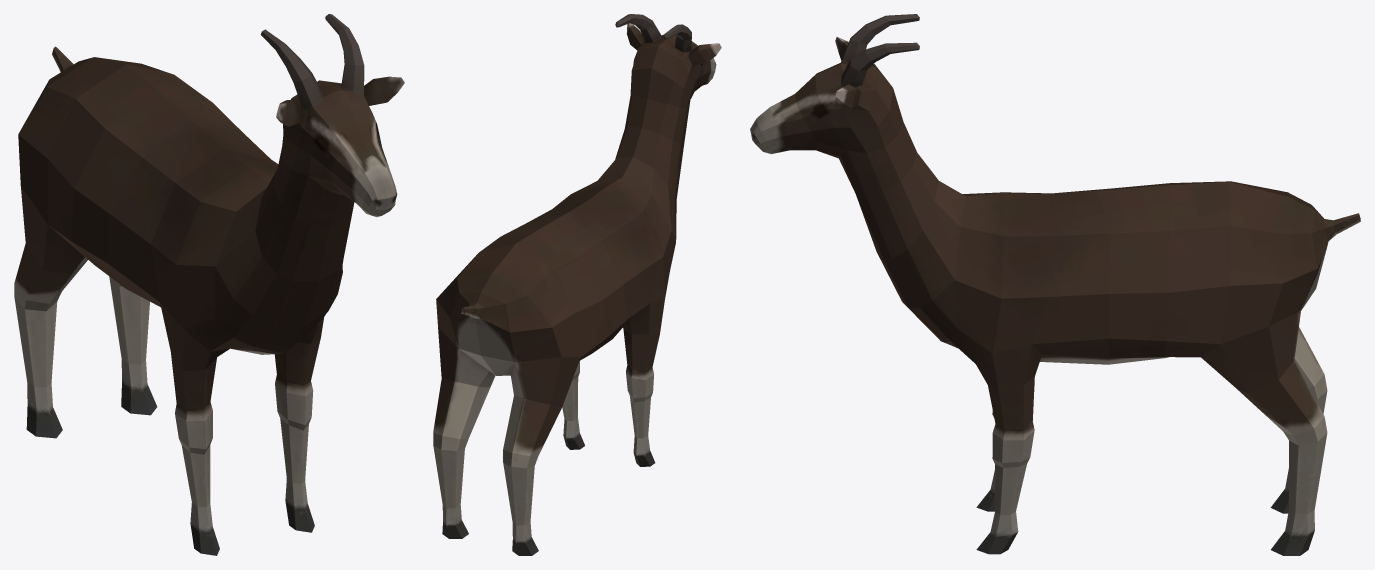
File: animals-goat-109.glb
The picture shows the model from 3 angles, left to right: view 1: azimuth 30°, elevation 25°; view 2: azimuth 150°, elevation 25°; view 3: azimuth 270°, elevation 25°; orthographic projection. The views are drawn at different scales.
Visible parts, largest first — view 1: Goat_mesh; view 2: Goat_mesh; view 3: Goat_mesh.
Boxes of the visible parts, x1,y1,x2,y2 form: Goat_mesh: [14, 14, 404, 555]; Goat_mesh: [433, 14, 721, 555]; Goat_mesh: [750, 14, 1360, 555].
Bounding box in the file's own units: 2.26 × 6.6 × 7.31.
Materials: 1 (1 with a texture image).
